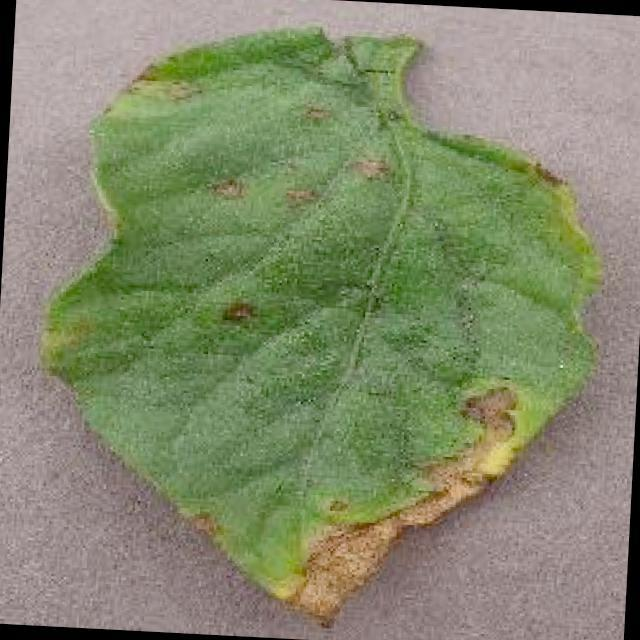Tomato bacterial spot leaf: (21, 4, 625, 640)
